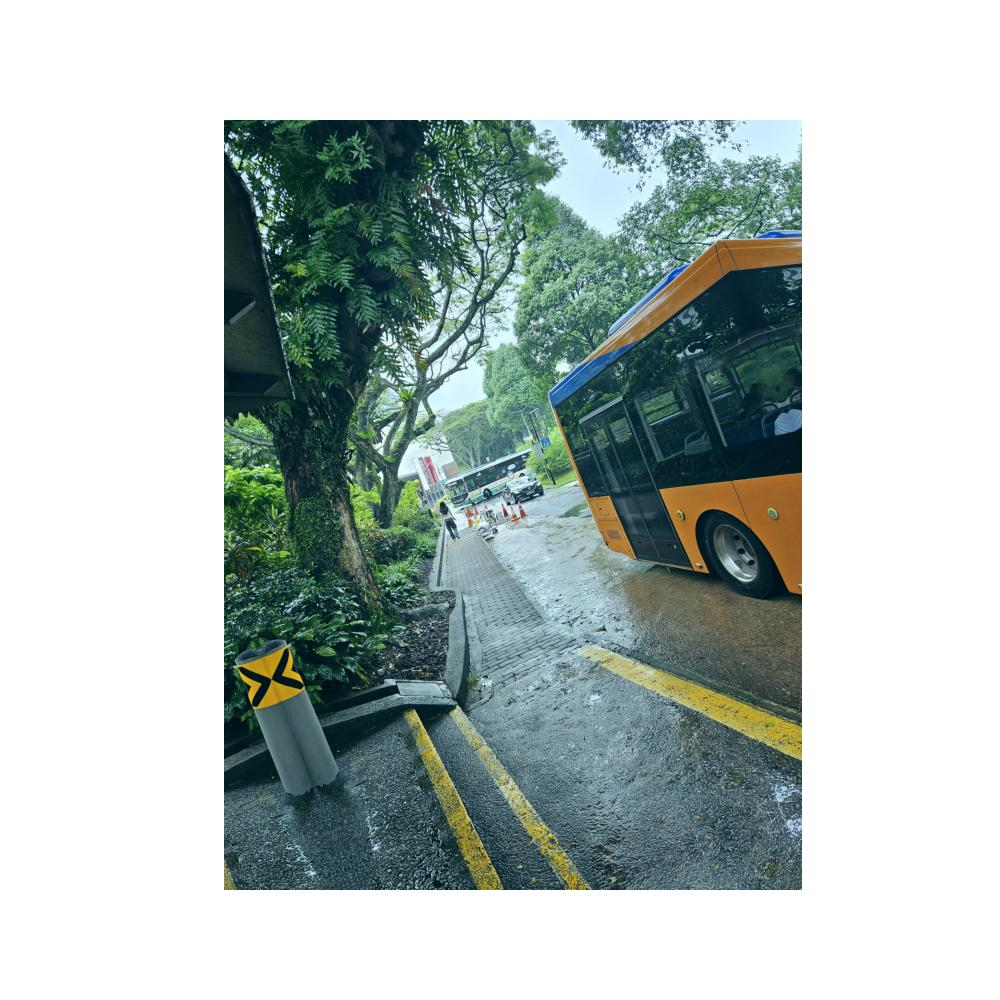bus: (544, 228, 802, 604), (440, 446, 546, 499)
